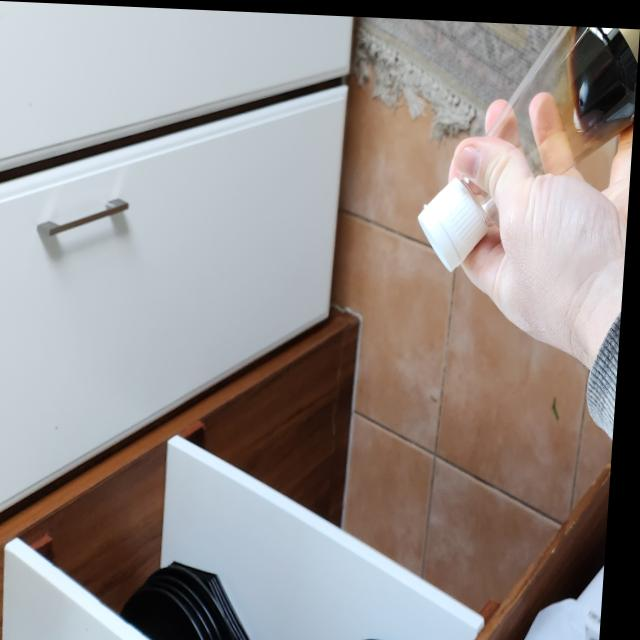soy sauce: (412, 15, 640, 274)
